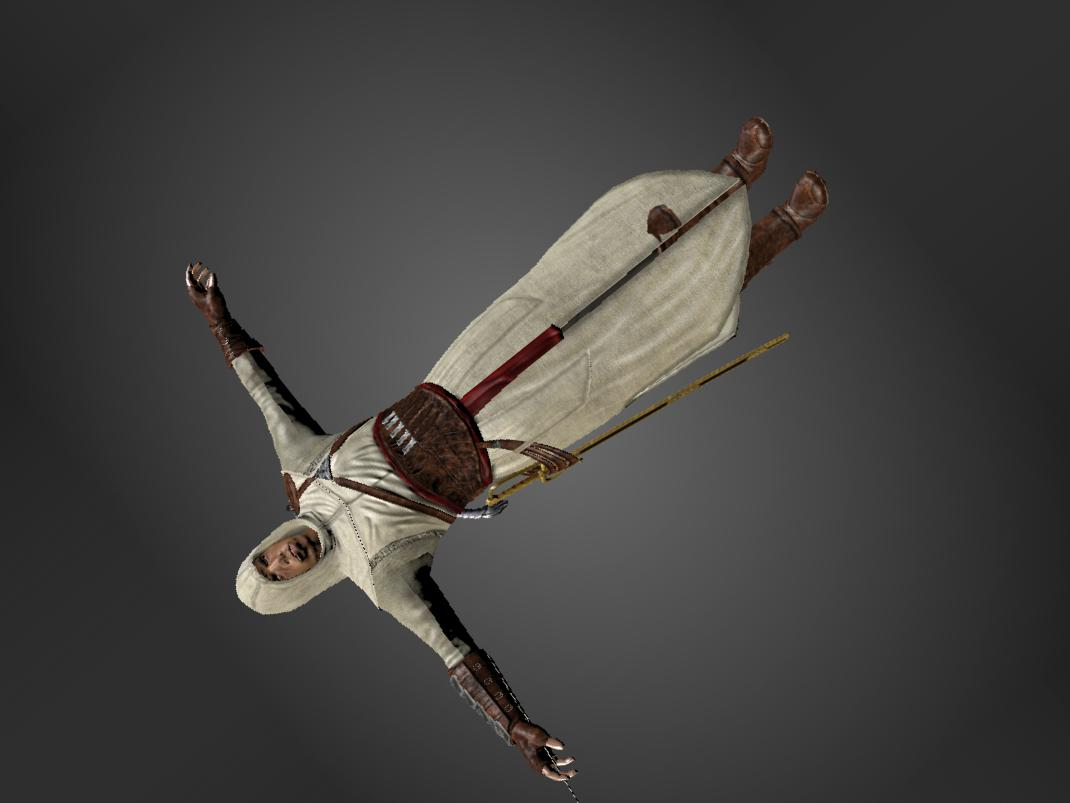clip: (647, 201, 687, 245)
